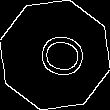O_W: (25, 28, 85, 82)
